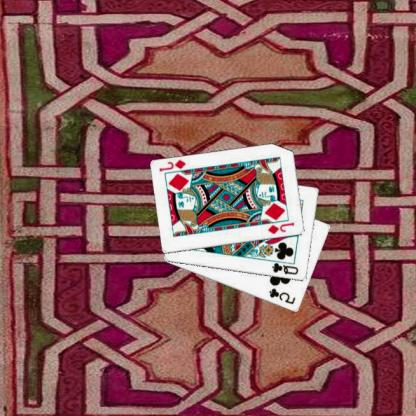5C: (268, 286, 298, 306)
JD: (267, 219, 298, 236), (158, 157, 189, 173)
QC: (271, 260, 301, 276)
